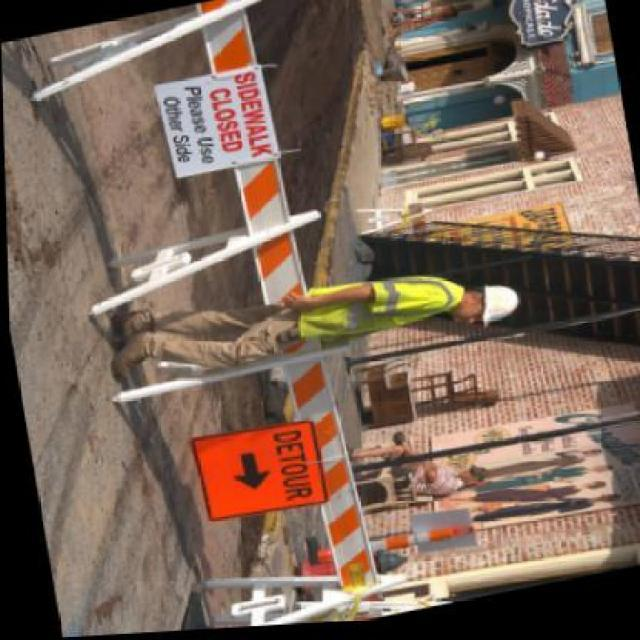helmet: (468, 283, 522, 336)
vest: (282, 260, 470, 355)
